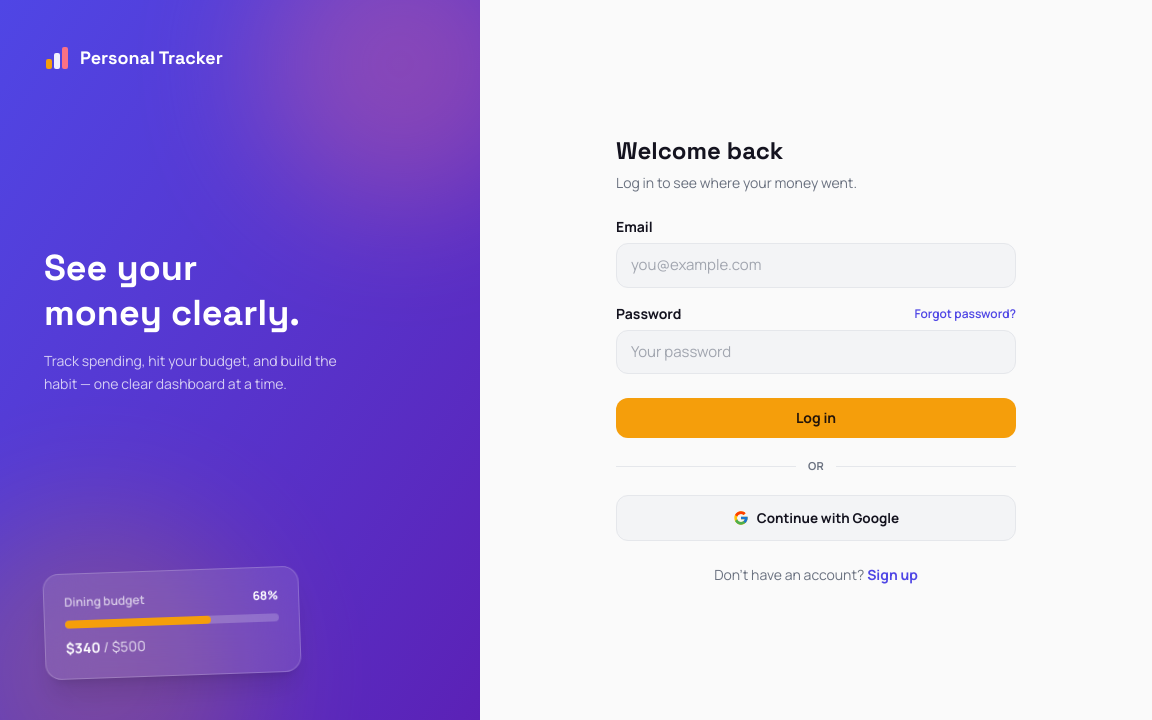
Test: LoginPage › shows an error message on invalid credentials
The image size is (1152, 720).
Type "a@example.com" into the field labelled "Email". click: (816, 265)
box: [616,243,1016,288]
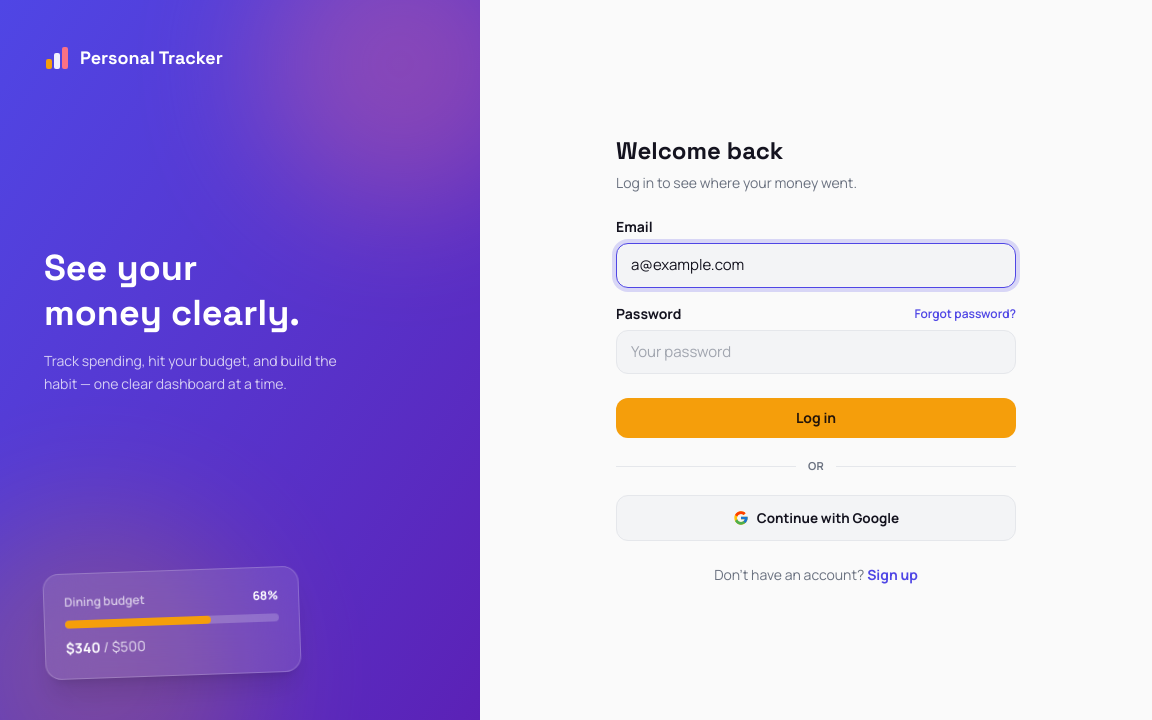
Type "wrong" into the password field labelled "Password". click: (816, 352)
box: [616,330,1016,374]
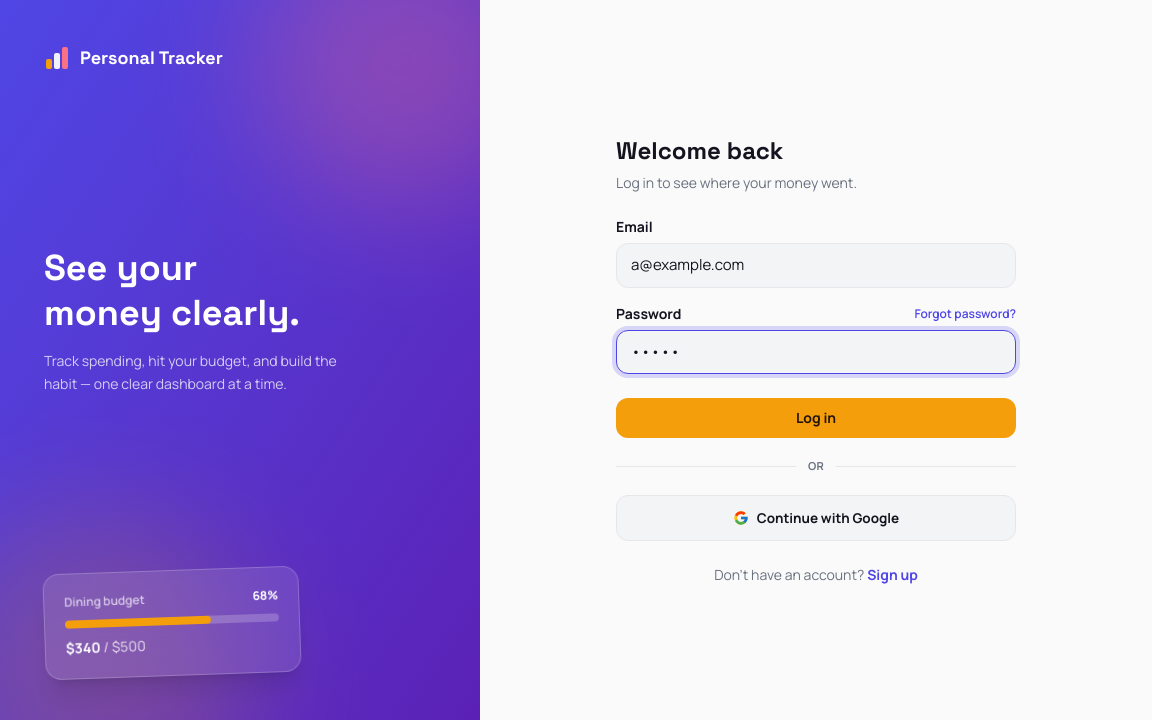
Click the button "Log in". click: (816, 418)
box: [616,398,1016,438]
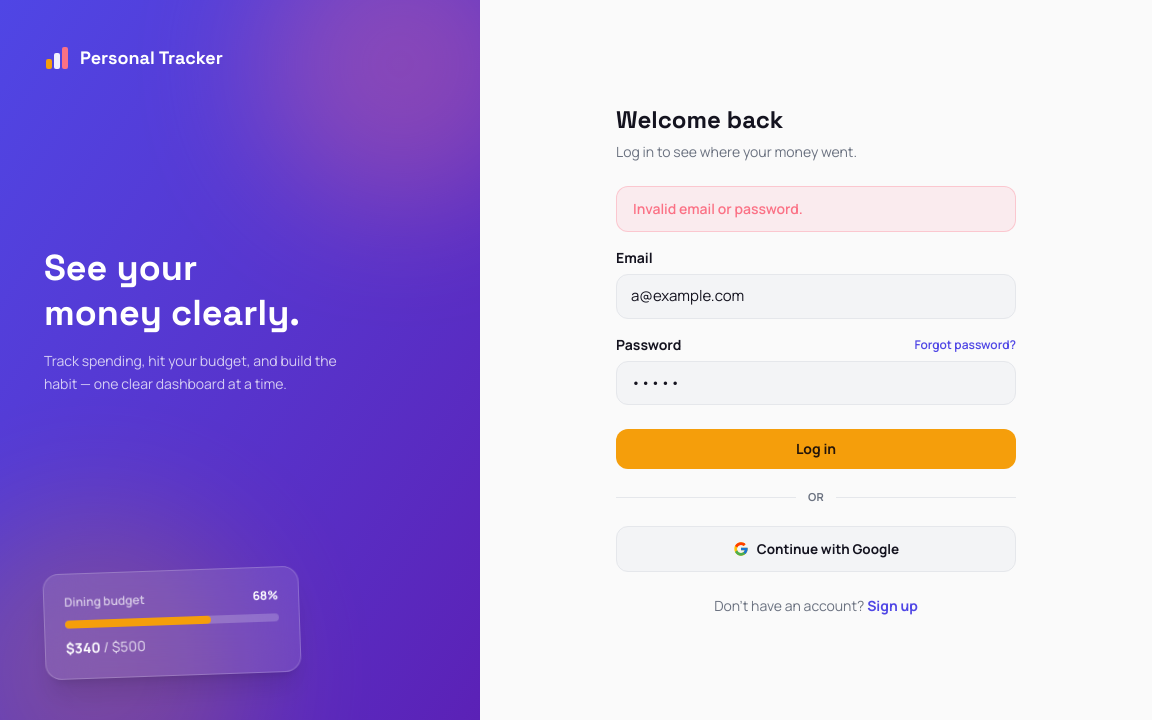
Result: the text "Invalid email or password." is shown at [616,186,1016,232]
